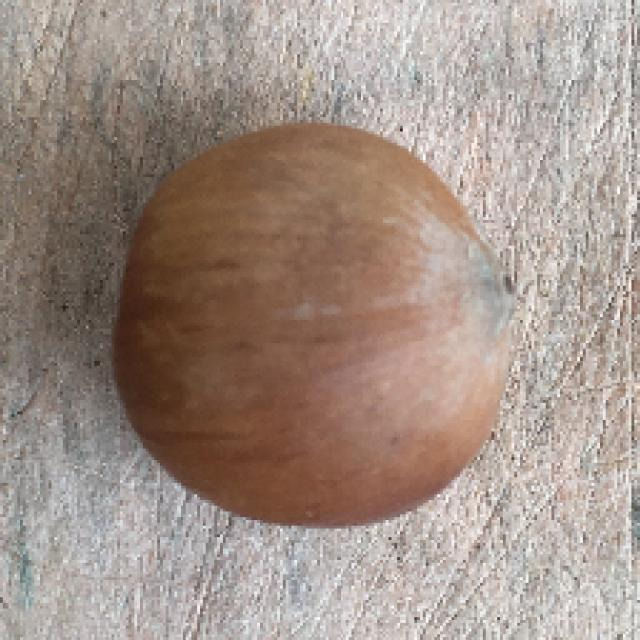qualityHazelnut: (110, 115, 533, 531)
